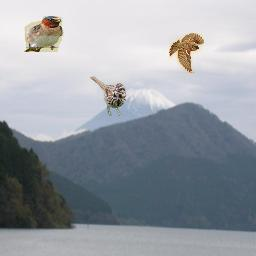Sparrow: (90, 76, 126, 116), (169, 33, 204, 73)
Swallow: (24, 16, 64, 52)
